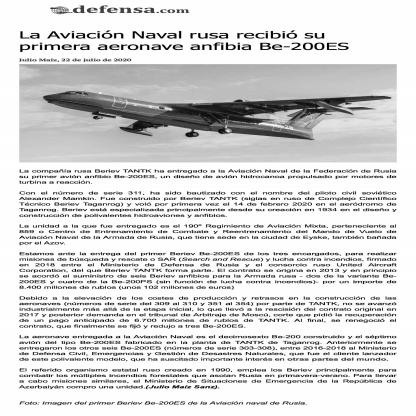Be200: (44, 92, 393, 141)
